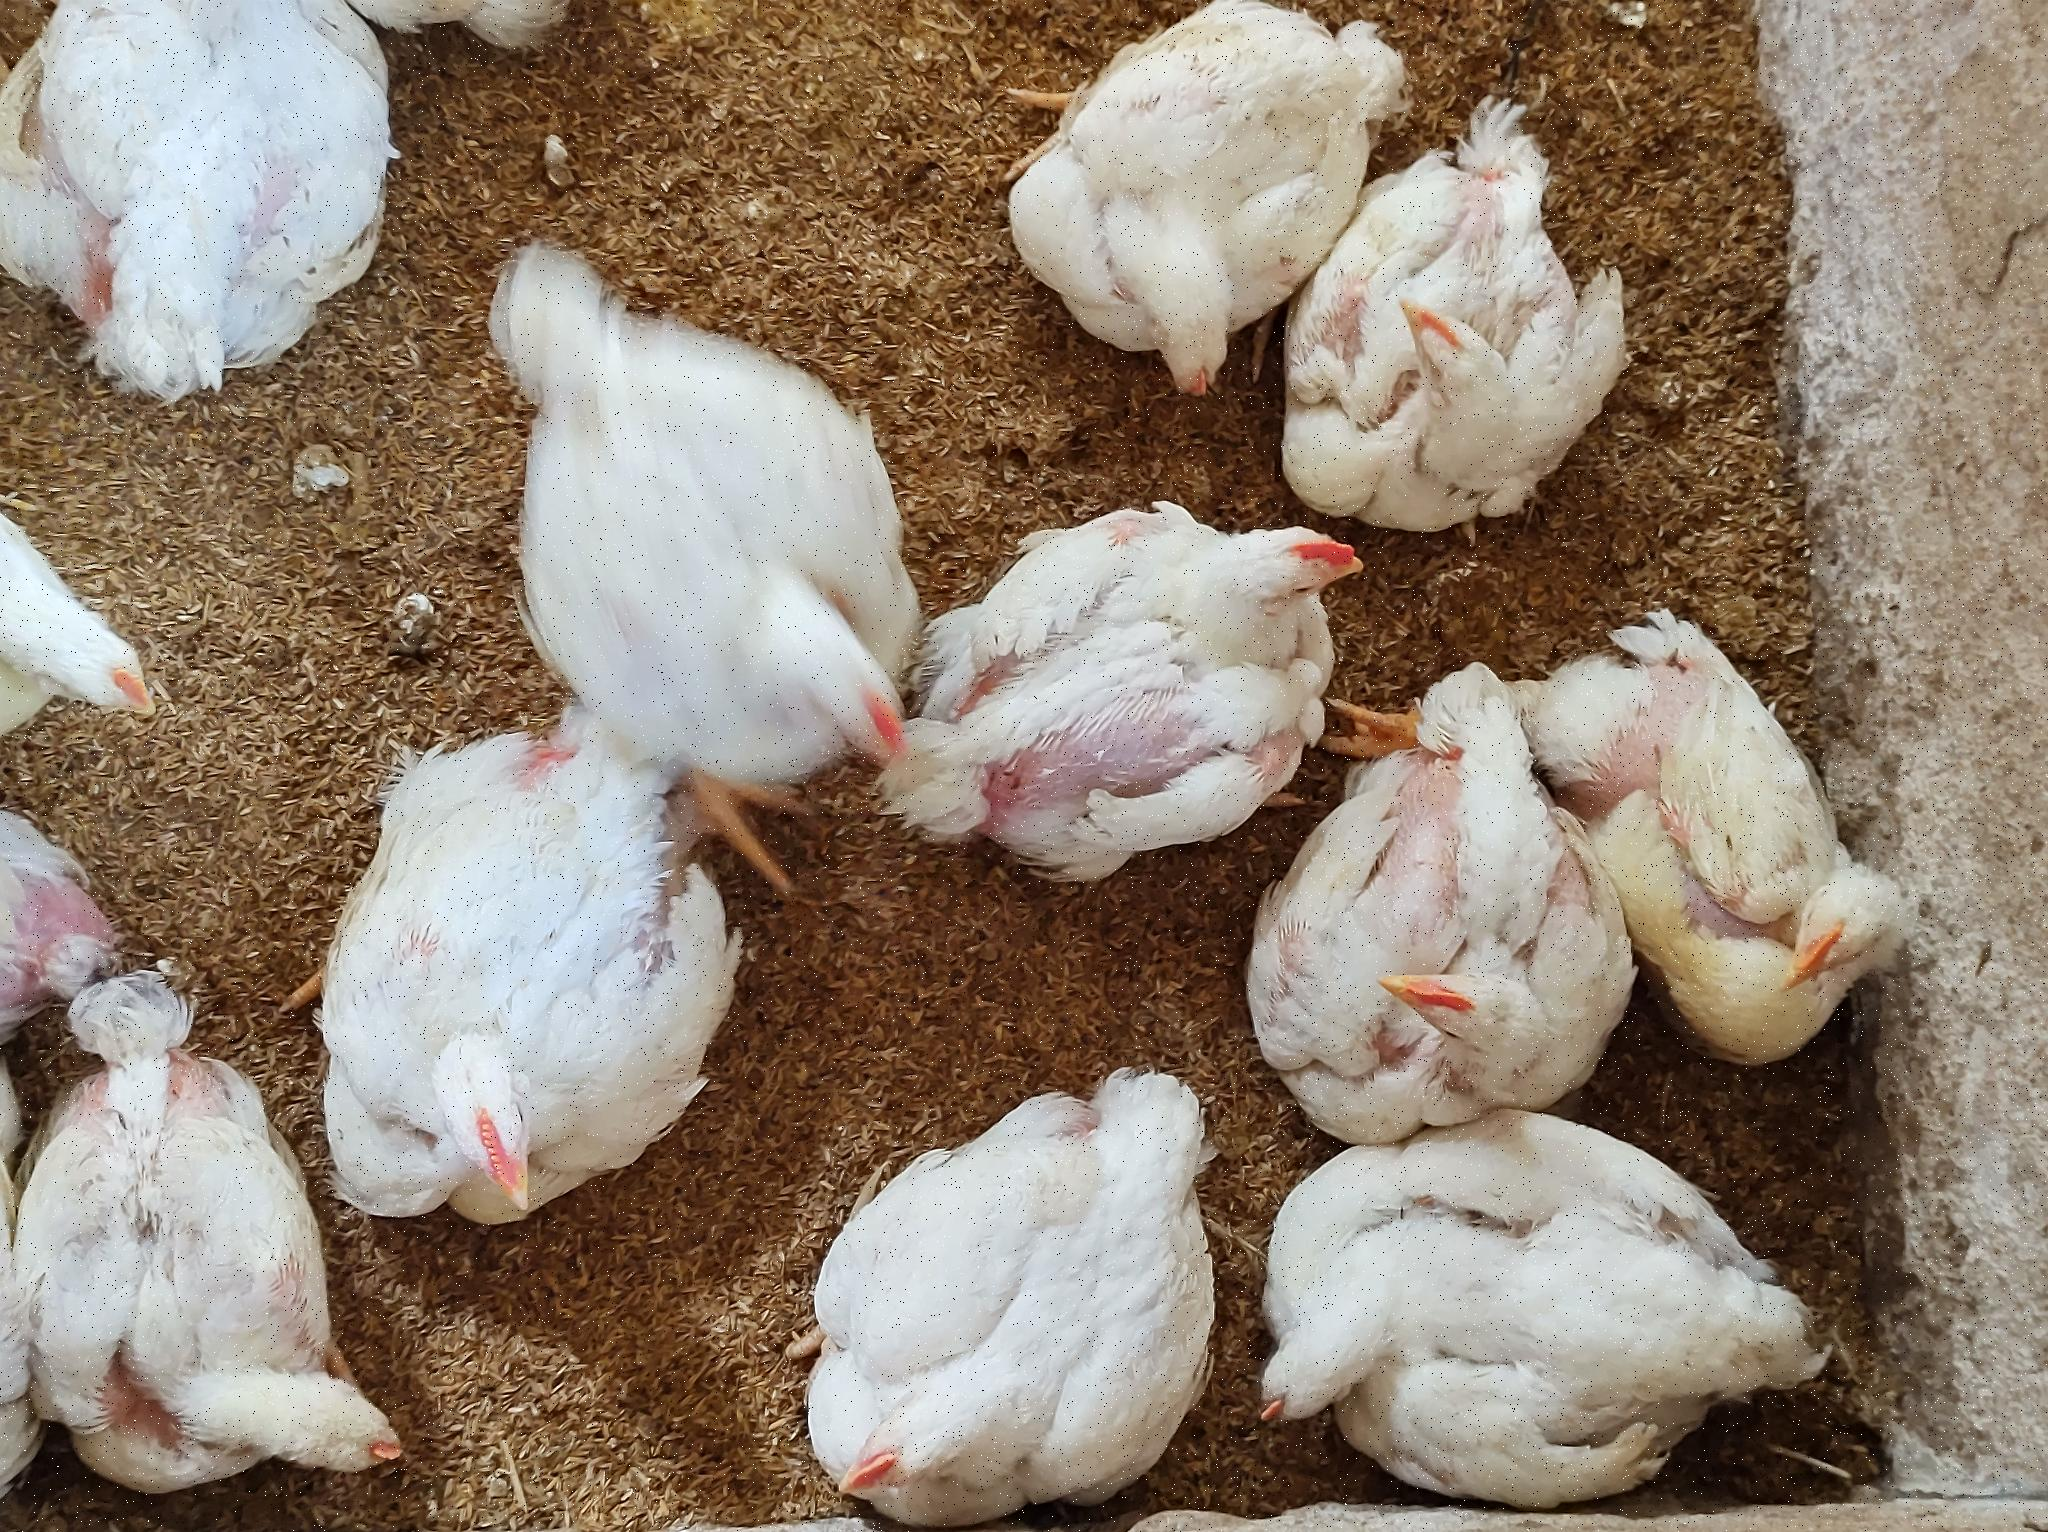Pollos: (463, 240, 931, 780), (1250, 1135, 1815, 1532), (882, 481, 1401, 867), (2, 1046, 423, 1513), (330, 734, 729, 1226), (808, 1083, 1210, 1519), (2, 2, 417, 397), (1268, 145, 1680, 528), (1253, 756, 1647, 1123), (1639, 587, 1963, 1032), (1022, 2, 1353, 410), (2, 502, 185, 750), (2, 808, 122, 1023)
